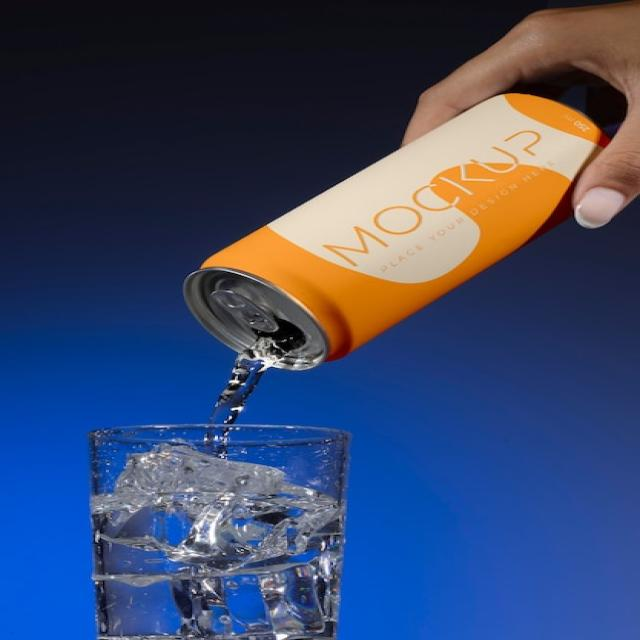glass: (68, 410, 359, 639)
soda_can: (151, 77, 638, 379)
